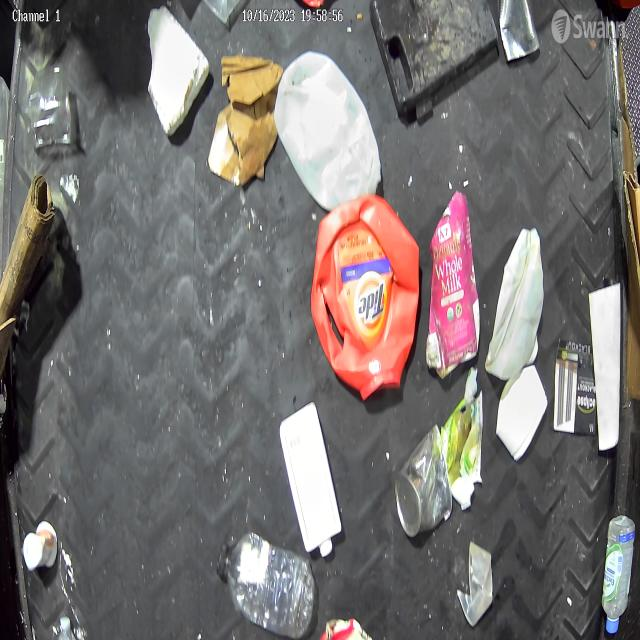can: (394, 421, 451, 539), (495, 0, 540, 74)
milk_jug: (272, 49, 370, 204), (486, 227, 538, 386)
non_white_jug: (311, 189, 422, 405), (424, 185, 482, 382)
plastic_bottle: (215, 528, 308, 632), (603, 508, 640, 639)
